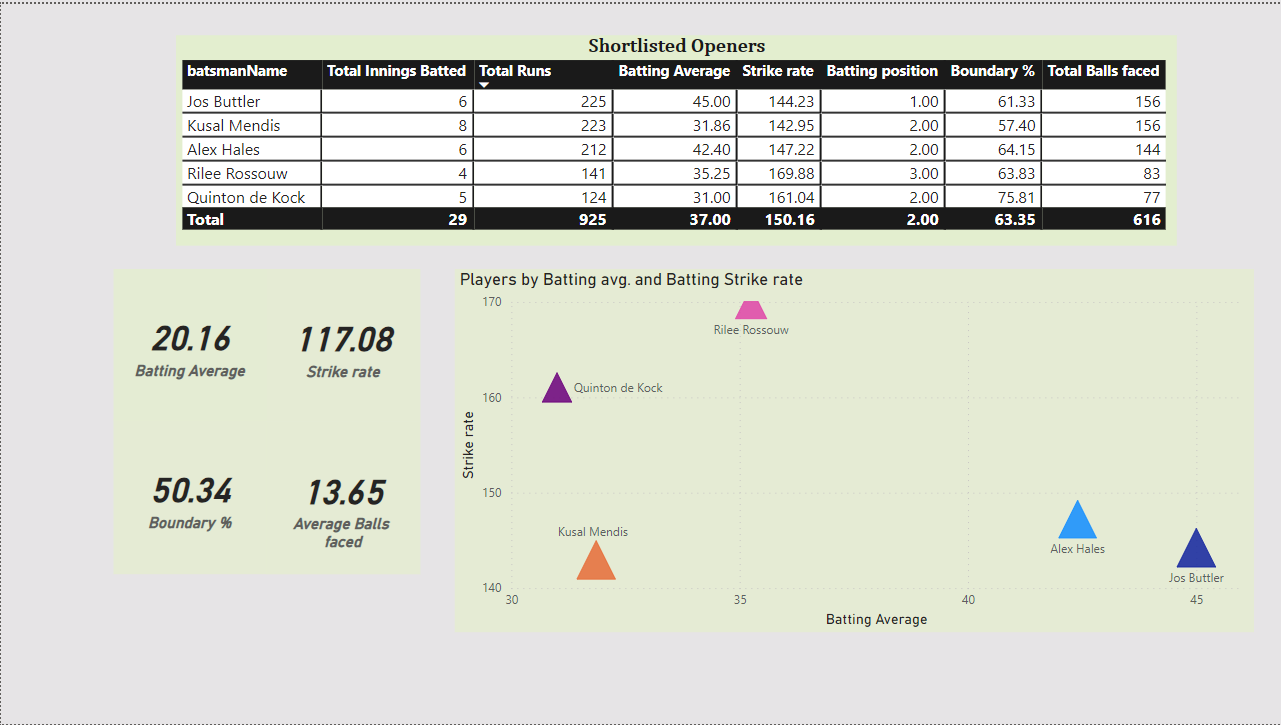

This screenshot's page, from the dashboard's own definition file:
{"tool":"powerbi","page":{"name":"Openers","canvas":[1280,720],"ordinal":0},"visuals":[{"type":"tableEx","title":"Shortlisted Openers","fields":{"Values":["a_batting_summary.batsmanName","Key_Measure.Total Innings Batted","Key_Measure.Total Runs","Key_Measure.Batting Average","Key_Measure.Strike rate","Key_Measure.Batting position","Key_Measure.Boundary %","Key_Measure.Total Balls faced"]},"box":[174.8,31.8,1001.2,210.3],"z":0},{"type":"card","fields":{"Values":["Key_Measure.Batting Average"]},"box":[112.5,265.3,152.8,151.6],"z":1000},{"type":"card","fields":{"Values":["Key_Measure.Strike rate"]},"box":[265.3,265.3,154,152.8],"z":2000},{"type":"card","fields":{"Values":["Key_Measure.Boundary %"]},"box":[112.5,415,152.5,155],"z":3000},{"type":"card","fields":{"Values":["Key_Measure.Average Balls faced"]},"box":[265.3,418.1,154,152.8],"z":4000},{"type":"scatterChart","title":"Players by Batting avg. and Batting Strike rate","fields":{"X":["Key_Measure.Batting Average"],"Y":["Key_Measure.Strike rate"],"Category":["a_batting_summary.batsmanName"],"Size":["Key_Measure.Total Runs"]},"box":[453.5,265.3,799.5,363.1],"z":5000}]}

Visuals, with their boxes in screenshot pixels (x1, y1, x2, y2), scaled from the page's 1280x720 canvas onto the 1281x725 screenshot:
"Shortlisted Openers" tableEx: {"left": 175, "top": 32, "right": 1177, "bottom": 244}
card - Key_Measure.Batting Average: {"left": 113, "top": 267, "right": 266, "bottom": 420}
card - Key_Measure.Strike rate: {"left": 266, "top": 267, "right": 420, "bottom": 421}
card - Key_Measure.Boundary %: {"left": 113, "top": 418, "right": 265, "bottom": 574}
card - Key_Measure.Average Balls faced: {"left": 266, "top": 421, "right": 420, "bottom": 575}
"Players by Batting avg. and Batting Strike rate" scatterChart: {"left": 454, "top": 267, "right": 1254, "bottom": 633}
